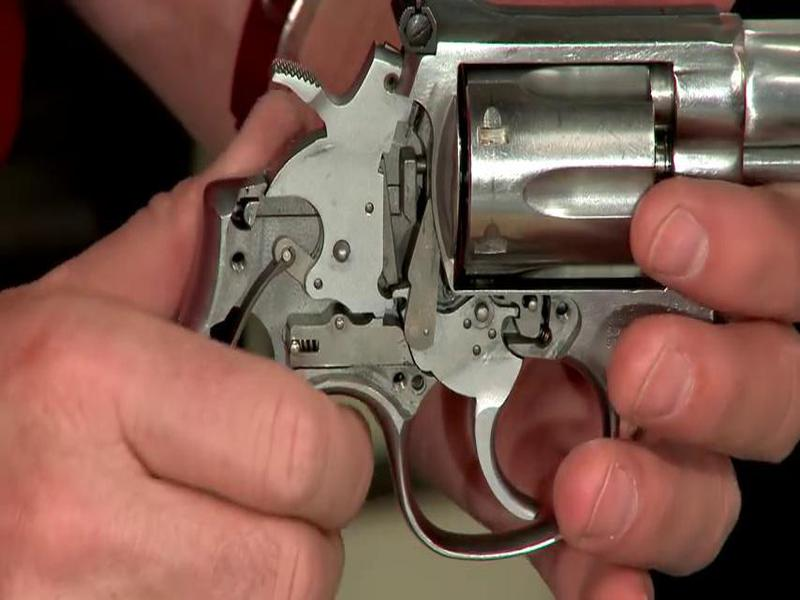Revolver: (182, 19, 800, 550)
